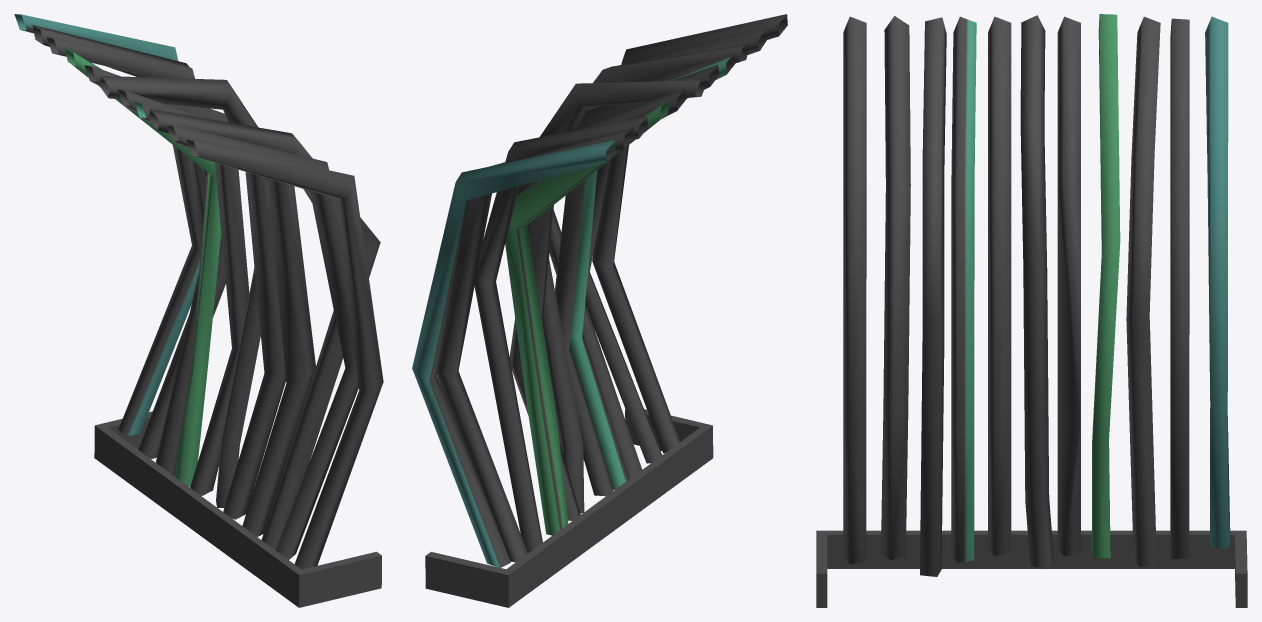
The model's file is Cables_H_V_1x1.fbx.
3 renders of one model, left to right at view 1: azimuth 30°, elevation 25°; view 2: azimuth 150°, elevation 25°; view 3: azimuth 270°, elevation 25°, orthographic. The views are drawn at different scales.
Visible parts, largest first — view 1: Cables_H_V_1x1; view 2: Cables_H_V_1x1; view 3: Cables_H_V_1x1.
Boxes of the visible parts, bbox=[...] form: Cables_H_V_1x1: bbox=[14, 14, 383, 607]; Cables_H_V_1x1: bbox=[412, 14, 787, 607]; Cables_H_V_1x1: bbox=[816, 14, 1247, 607].
Size of the model in its own units: 63.41 by 129 by 100.
